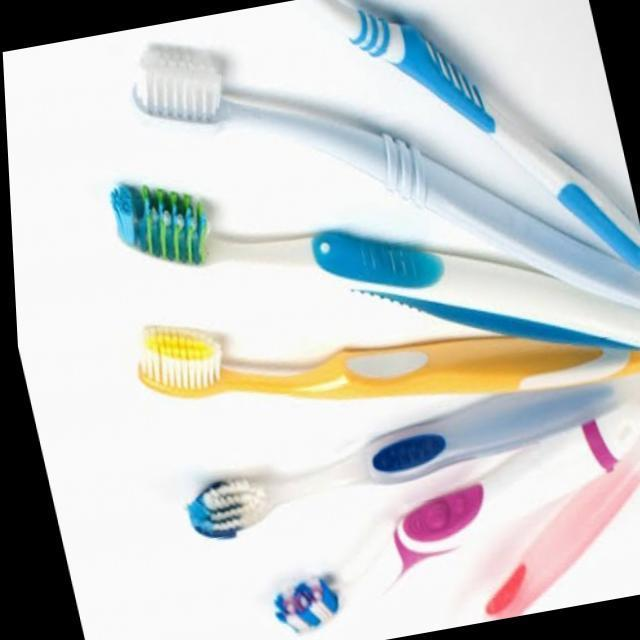toothbrush: (118, 44, 640, 307), (267, 390, 640, 636), (302, 0, 640, 267), (105, 182, 640, 344), (179, 363, 640, 540), (133, 326, 640, 397), (464, 438, 640, 624)
